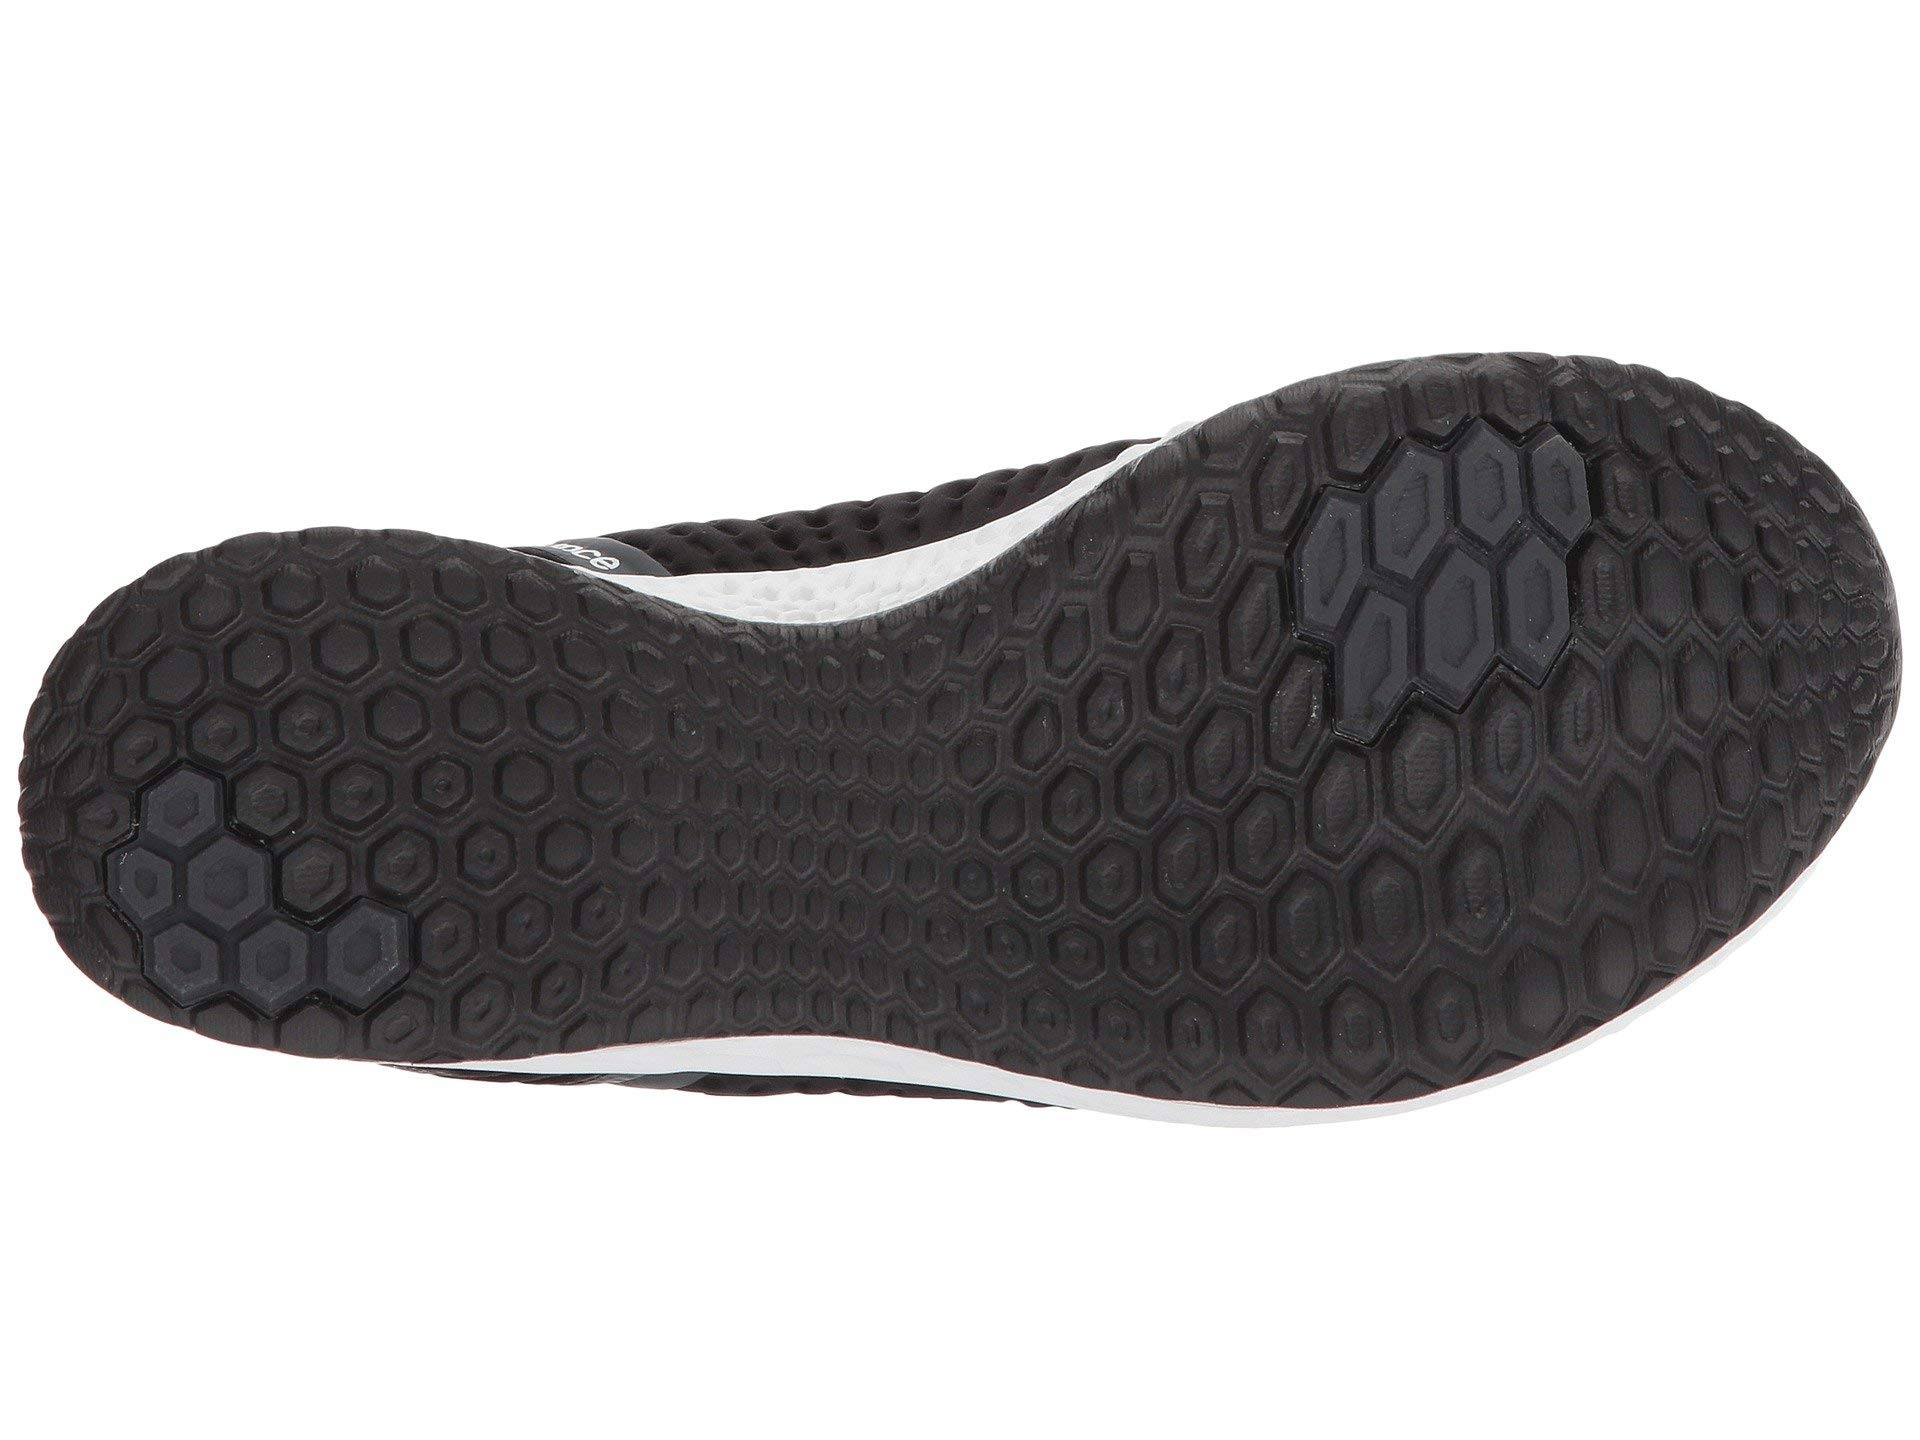polygon: (1246, 428, 1711, 929), (98, 632, 475, 1013)
